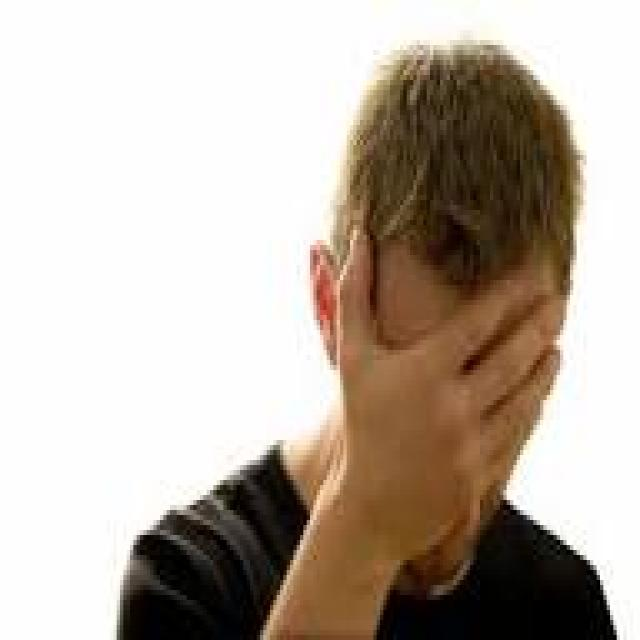7_mano_rostro: (340, 222, 563, 579)
